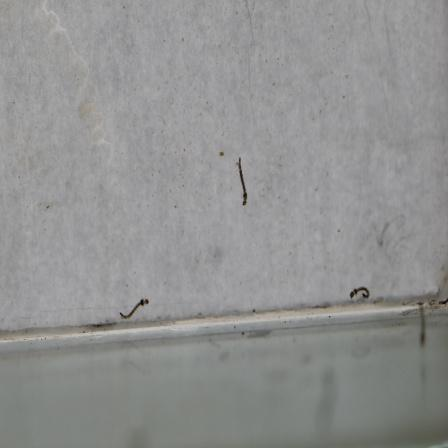Jentik-Nyamuk: (117, 294, 150, 320), (234, 154, 249, 209), (345, 281, 372, 304)
